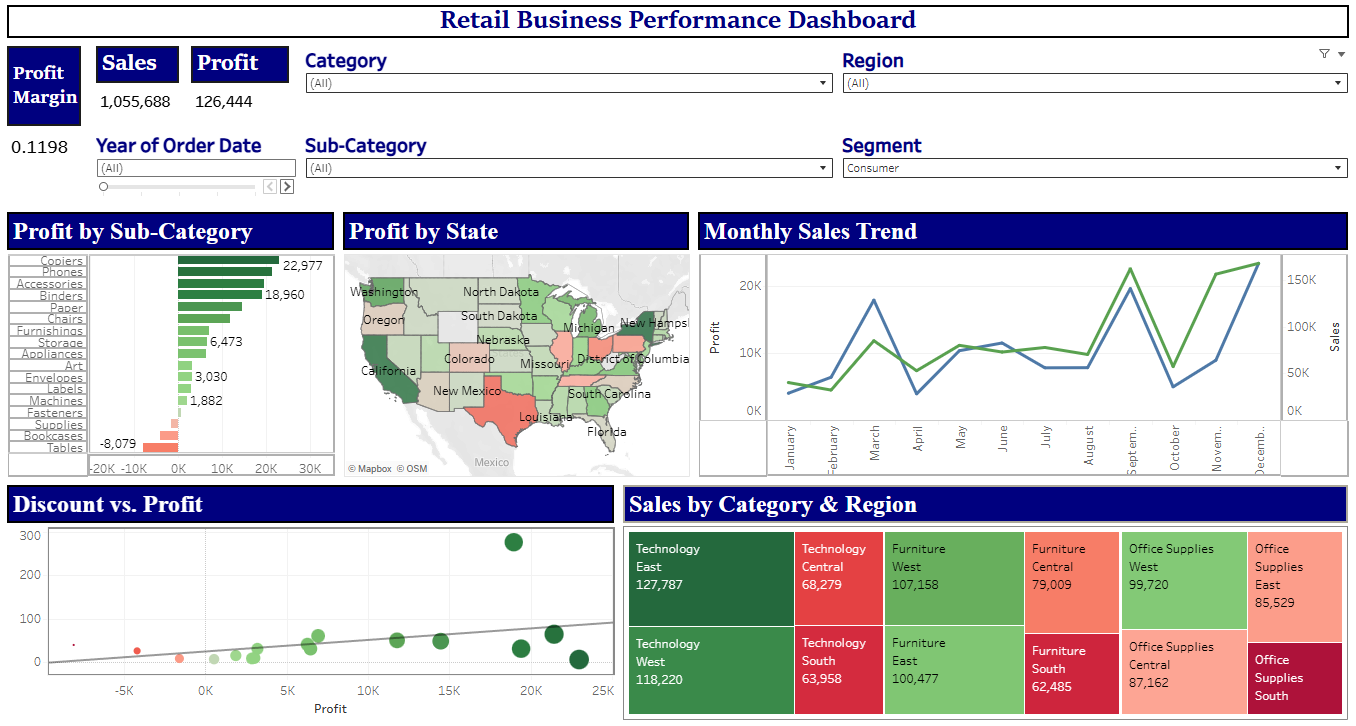

The dashboard page shown, as its layout file describes it:
{"tool":"tableau","page":{"name":"Retail Business Performance Dashboard","canvas":[1000,1000],"units":"permille","ordinal":0},"visuals":[{"type":"title","box":[6.1,12.1,987.9,75.8]},{"type":"worksheet","title":"Profit Margin","mark":"Automatic","box":[6.1,87.9,65.1,219.3]},{"type":"worksheet","title":"Sales","mark":"Automatic","box":[71.2,87.9,69.7,111.7]},{"type":"worksheet","title":"Profit","mark":"Automatic","box":[140.9,87.9,83.3,111.7]},{"type":"filter","title":"Profit by State ","param":"[federated.1mi5oy91ajp43x1d5ndf210462cf].[none:Category:nk]","box":[224.2,87.9,393.3,112.4]},{"type":"filter","title":"Profit by State ","param":"[federated.1mi5oy91ajp43x1d5ndf210462cf].[none:Region:nk]","box":[617.5,87.9,376.5,112.4]},{"type":"filter","title":"Profit by State ","param":"[federated.1mi5oy91ajp43x1d5ndf210462cf].[yr:Orde_Date:ok]","box":[71.2,199.6,153,107.6]},{"type":"filter","title":"Profit by State ","param":"[federated.1mi5oy91ajp43x1d5ndf210462cf].[none:Sub_Category:nk]","box":[224.2,200.3,393.3,106.9]},{"type":"filter","title":"Profit by State ","param":"[federated.1mi5oy91ajp43x1d5ndf210462cf].[none:Segment:nk]","box":[617.5,200.3,376.5,106.9]},{"type":"worksheet","title":"Profit by Sub-Category","mark":"Automatic","rows":["Sub_Category"],"cols":["Profit"],"box":[6.1,307.2,245.8,359.2]},{"type":"worksheet","title":"Profit by State ","mark":"Multipolygon","box":[251.9,307.2,260.2,359.2]},{"type":"worksheet","title":"Monthly Sales Trend","mark":"Automatic","rows":["Profit","Sales"],"cols":["Orde_Date"],"box":[512.1,307.2,481.9,359.2]},{"type":"worksheet","title":"Discount vs. Profit","mark":"Automatic","rows":["Discount"],"cols":["Profit"],"box":[6.1,666.4,451,321.5]},{"type":"worksheet","title":"Sales by Category & Region","mark":"Automatic","box":[457,666.4,536.9,321.5]}]}

Visuals, with their boxes on the dashboard's canvas, which has no fixed pixel size, in thousandths of its width and height (x1, y1, x2, y2). These are canvas units, not pixel positions in the 1356x726 screenshot, which may show the page scaled, cropped or inside an application window:
title: BBox(6, 12, 994, 88)
"Profit Margin" worksheet: BBox(6, 88, 71, 307)
"Sales" worksheet: BBox(71, 88, 141, 200)
"Profit" worksheet: BBox(141, 88, 224, 200)
"Profit by State " filter: BBox(224, 88, 618, 200)
"Profit by State " filter: BBox(618, 88, 994, 200)
"Profit by State " filter: BBox(71, 200, 224, 307)
"Profit by State " filter: BBox(224, 200, 618, 307)
"Profit by State " filter: BBox(618, 200, 994, 307)
"Profit by Sub-Category" worksheet: BBox(6, 307, 252, 666)
"Profit by State " worksheet (Multipolygon marks): BBox(252, 307, 512, 666)
"Monthly Sales Trend" worksheet: BBox(512, 307, 994, 666)
"Discount vs. Profit" worksheet: BBox(6, 666, 457, 988)
"Sales by Category & Region" worksheet: BBox(457, 666, 994, 988)
